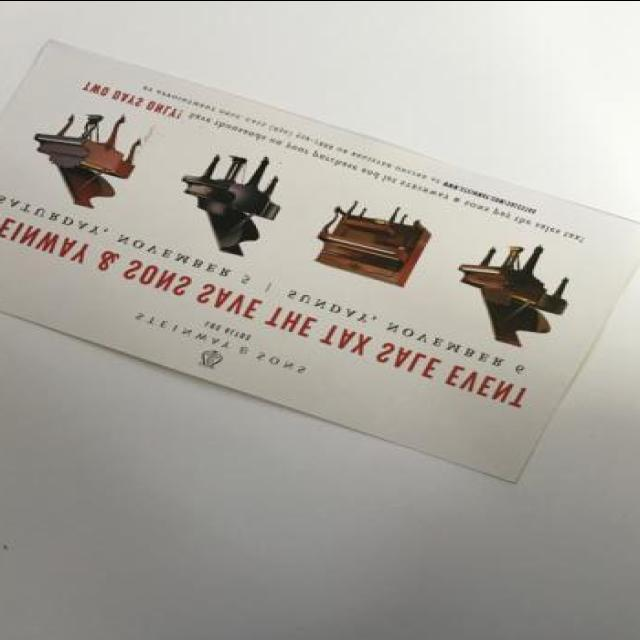kertas: (0, 32, 640, 488)
